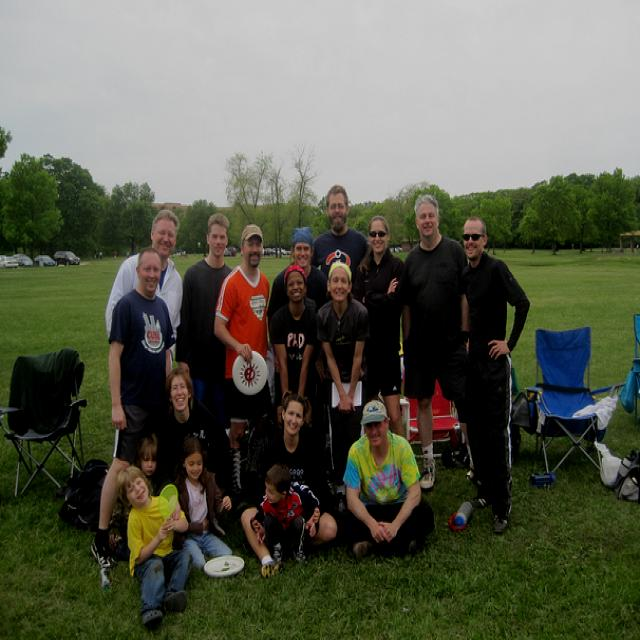Vehicle: (53, 251, 81, 267), (13, 253, 33, 267), (0, 255, 18, 269), (34, 255, 54, 266)
